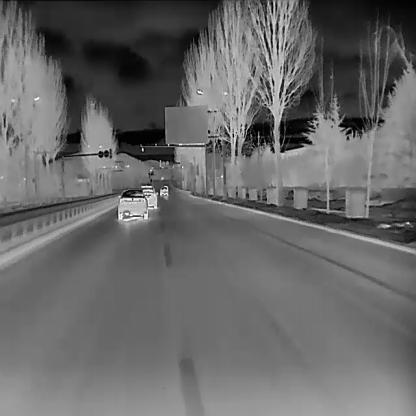car: (117, 188, 148, 218), (141, 186, 158, 209), (160, 184, 168, 196)
